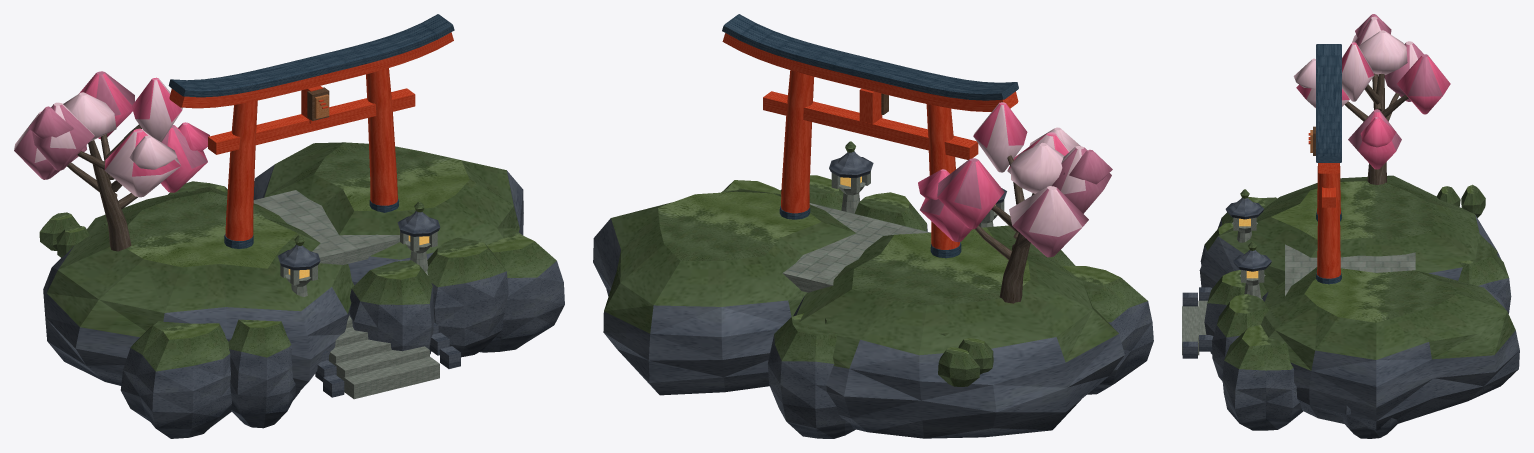
Rendered from fuji_torii_cape_mid.glb.
3 renders of one model, left to right at view 1: azimuth 30°, elevation 25°; view 2: azimuth 150°, elevation 25°; view 3: azimuth 270°, elevation 25°, orthographic. The views are drawn at different scales.
Parts seen in each view (by area): view 1: fuji_torii_cape_mid; view 2: fuji_torii_cape_mid; view 3: fuji_torii_cape_mid.
Boxes of the visible parts, bbox=[...] form: fuji_torii_cape_mid: bbox=[14, 14, 564, 438]; fuji_torii_cape_mid: bbox=[593, 14, 1153, 438]; fuji_torii_cape_mid: bbox=[1182, 14, 1519, 438].
Size of the model in its own units: 16 by 9.5 by 11.
Materials: 2 (2 with a texture image).
